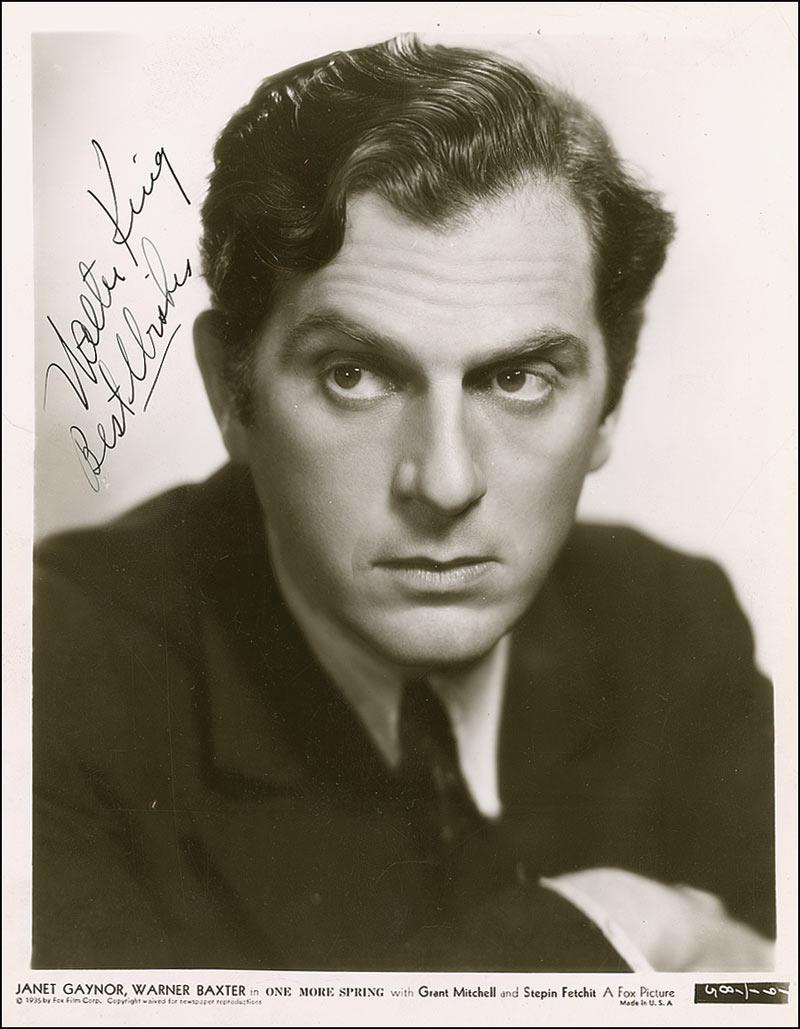bad: (247, 290, 632, 675)
